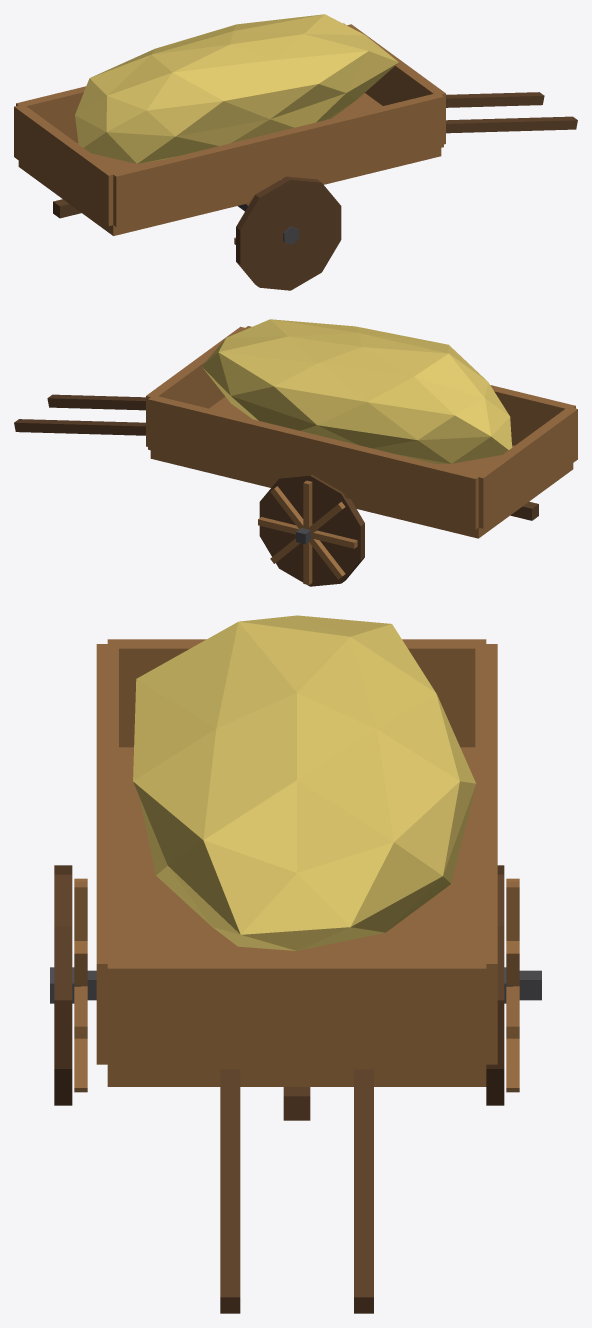
File: cart_2.glb
The picture shows the model from 3 angles, top to bottom: view 1: azimuth 30°, elevation 25°; view 2: azimuth 150°, elevation 25°; view 3: azimuth 270°, elevation 25°; orthographic projection. The views are drawn at different scales.
Visible parts, largest first — view 1: cart_2; view 2: cart_2; view 3: cart_2.
Part boxes in pixels (left/top/right/bottom): cart_2: left=14, top=14, right=577, bottom=290; cart_2: left=14, top=319, right=577, bottom=586; cart_2: left=50, top=615, right=541, bottom=1313.
Size of what is drawn, in the model's own units: 5.21 by 2 by 2.21.
